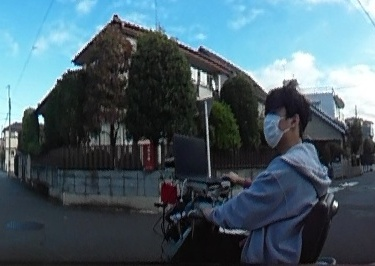person: (206, 86, 331, 266)
